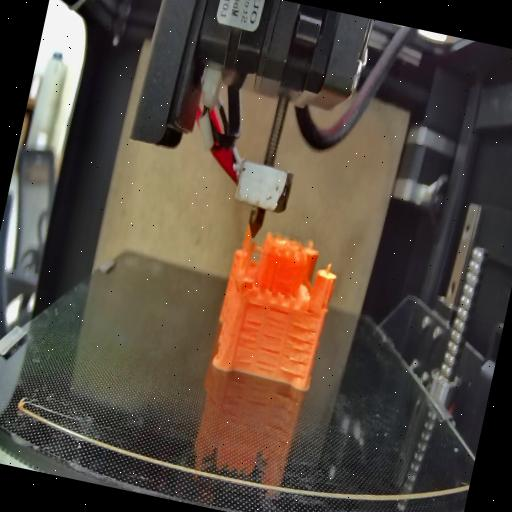cracks: (280, 322, 316, 379), (232, 314, 260, 369), (262, 306, 290, 343), (254, 344, 282, 374), (245, 298, 265, 309), (304, 304, 318, 316)
